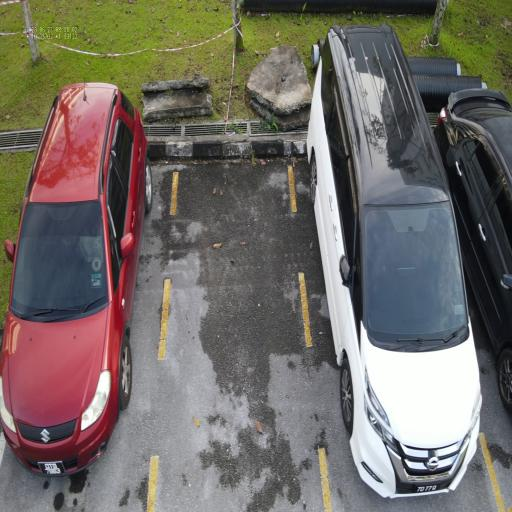Empty: (141, 143, 336, 512)
